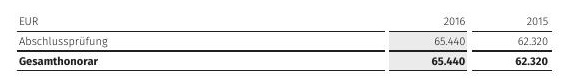table: (0, 0, 567, 83)
